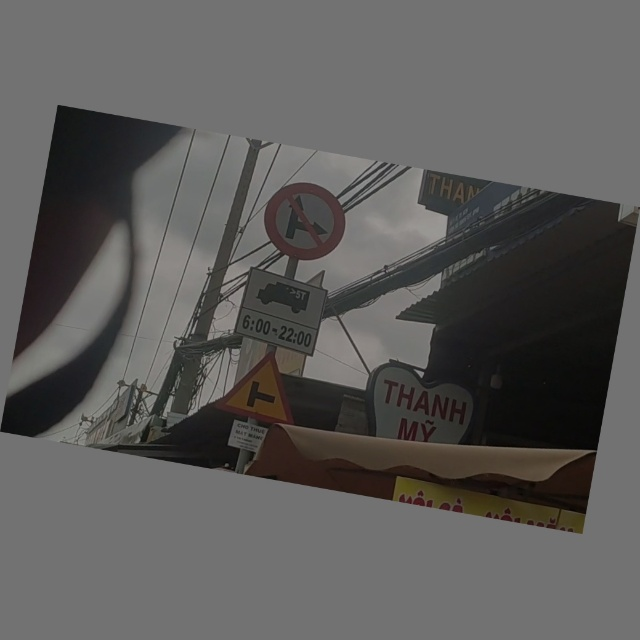P.139: (259, 176, 351, 267)
S.505a*Xe tai: (238, 267, 326, 353)
W.205b: (217, 344, 306, 427)
